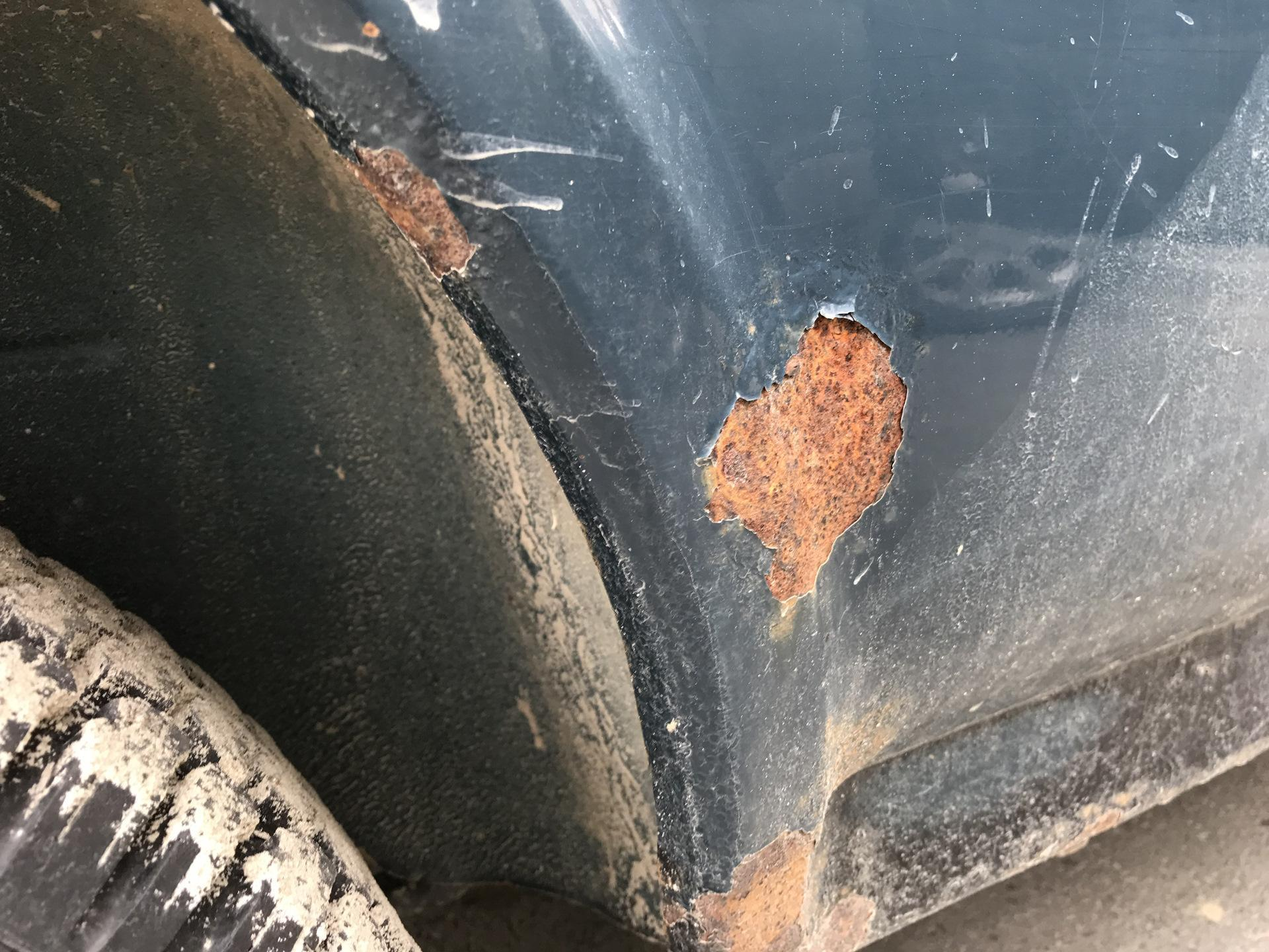corrosion: (707, 318, 908, 603), (353, 147, 477, 278)
